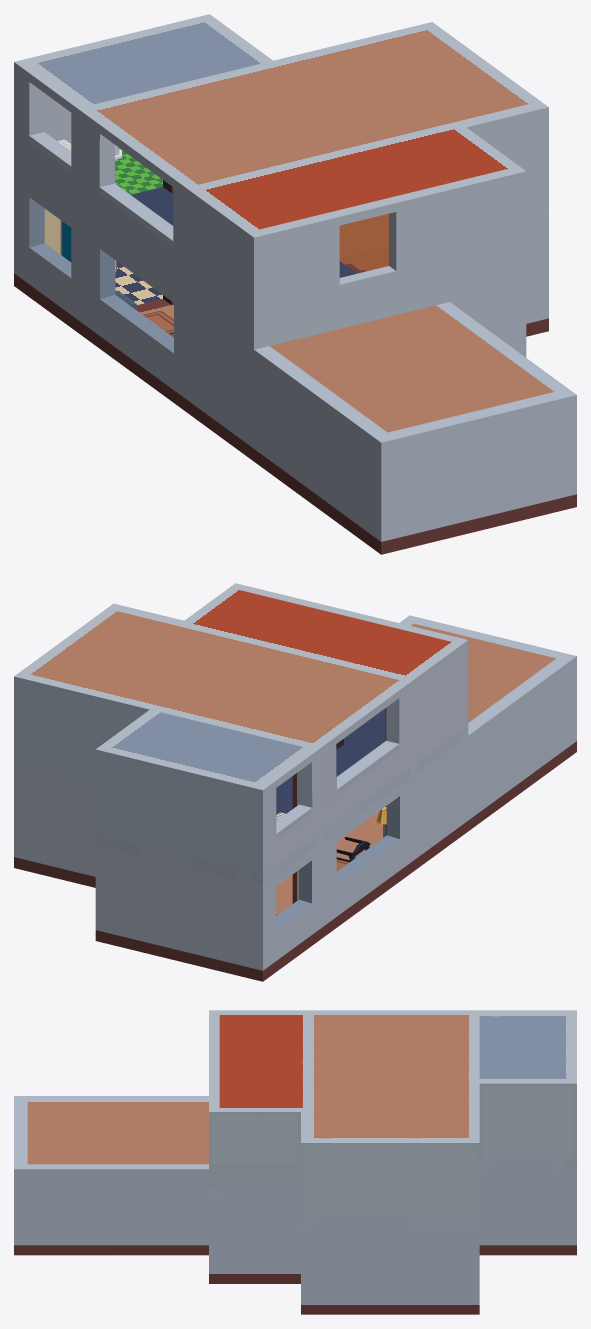
File: house2.gltf
3 views of the same model, one above another, from view 1: azimuth 30°, elevation 25°; view 2: azimuth 150°, elevation 25°; view 3: azimuth 270°, elevation 25° (orthographic). The views are drawn at different scales.
Visible parts, largest first — view 1: upstairs_ceiling, upstairs_walls, garage_walls, downstairs_walls, garage_ceiling, upstairs_floor, downstairs_floor, garage_floor; view 2: upstairs_ceiling, upstairs_walls, downstairs_walls, garage_walls, upstairs_floor, downstairs_floor, garage_ceiling, garage_floor; view 3: upstairs_ceiling, downstairs_walls, upstairs_walls, garage_walls, garage_ceiling, downstairs_floor, upstairs_floor, garage_floor.
Boxes of the visible parts, bbox=[...] form: upstairs_ceiling: bbox=[14, 14, 548, 237]; upstairs_walls: bbox=[14, 62, 548, 336]; garage_walls: bbox=[254, 302, 576, 541]; downstairs_walls: bbox=[14, 174, 548, 448]; garage_ceiling: bbox=[270, 305, 553, 432]; upstairs_floor: bbox=[14, 147, 548, 349]; downstairs_floor: bbox=[14, 261, 548, 461]; garage_floor: bbox=[254, 449, 576, 554]; upstairs_ceiling: bbox=[14, 583, 467, 789]; upstairs_walls: bbox=[14, 640, 468, 874]; downstairs_walls: bbox=[14, 736, 468, 970]; garage_walls: bbox=[399, 615, 576, 820]; upstairs_floor: bbox=[14, 710, 468, 885]; downstairs_floor: bbox=[14, 811, 468, 981]; garage_ceiling: bbox=[411, 624, 555, 722]; garage_floor: bbox=[468, 741, 576, 830]; upstairs_ceiling: bbox=[209, 1010, 576, 1142]; downstairs_walls: bbox=[209, 1169, 576, 1304]; upstairs_walls: bbox=[209, 1083, 576, 1218]; garage_walls: bbox=[14, 1096, 208, 1245]; garage_ceiling: bbox=[27, 1102, 208, 1164]; downstairs_floor: bbox=[209, 1245, 576, 1314]; upstairs_floor: bbox=[209, 1159, 576, 1228]; garage_floor: bbox=[14, 1245, 208, 1255].
Bounding box in the file's own units: 5.44 × 3.28 × 9.75.
Materials: 62 (60 with a texture image).
